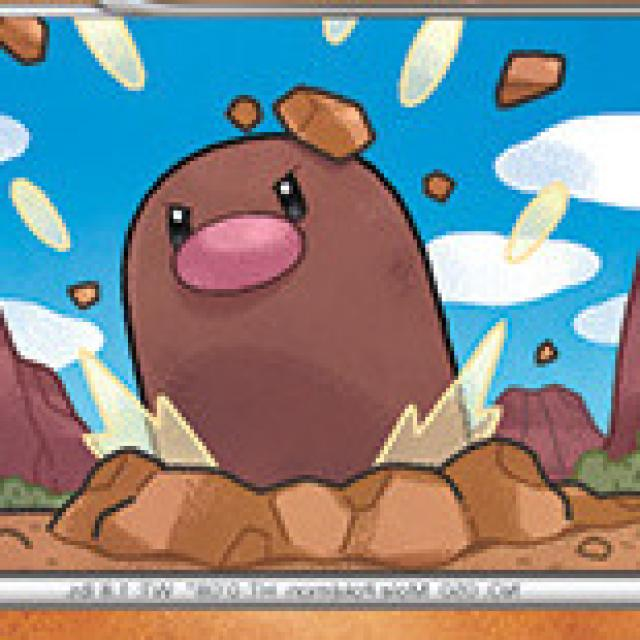Diglett: (121, 81, 461, 482)
